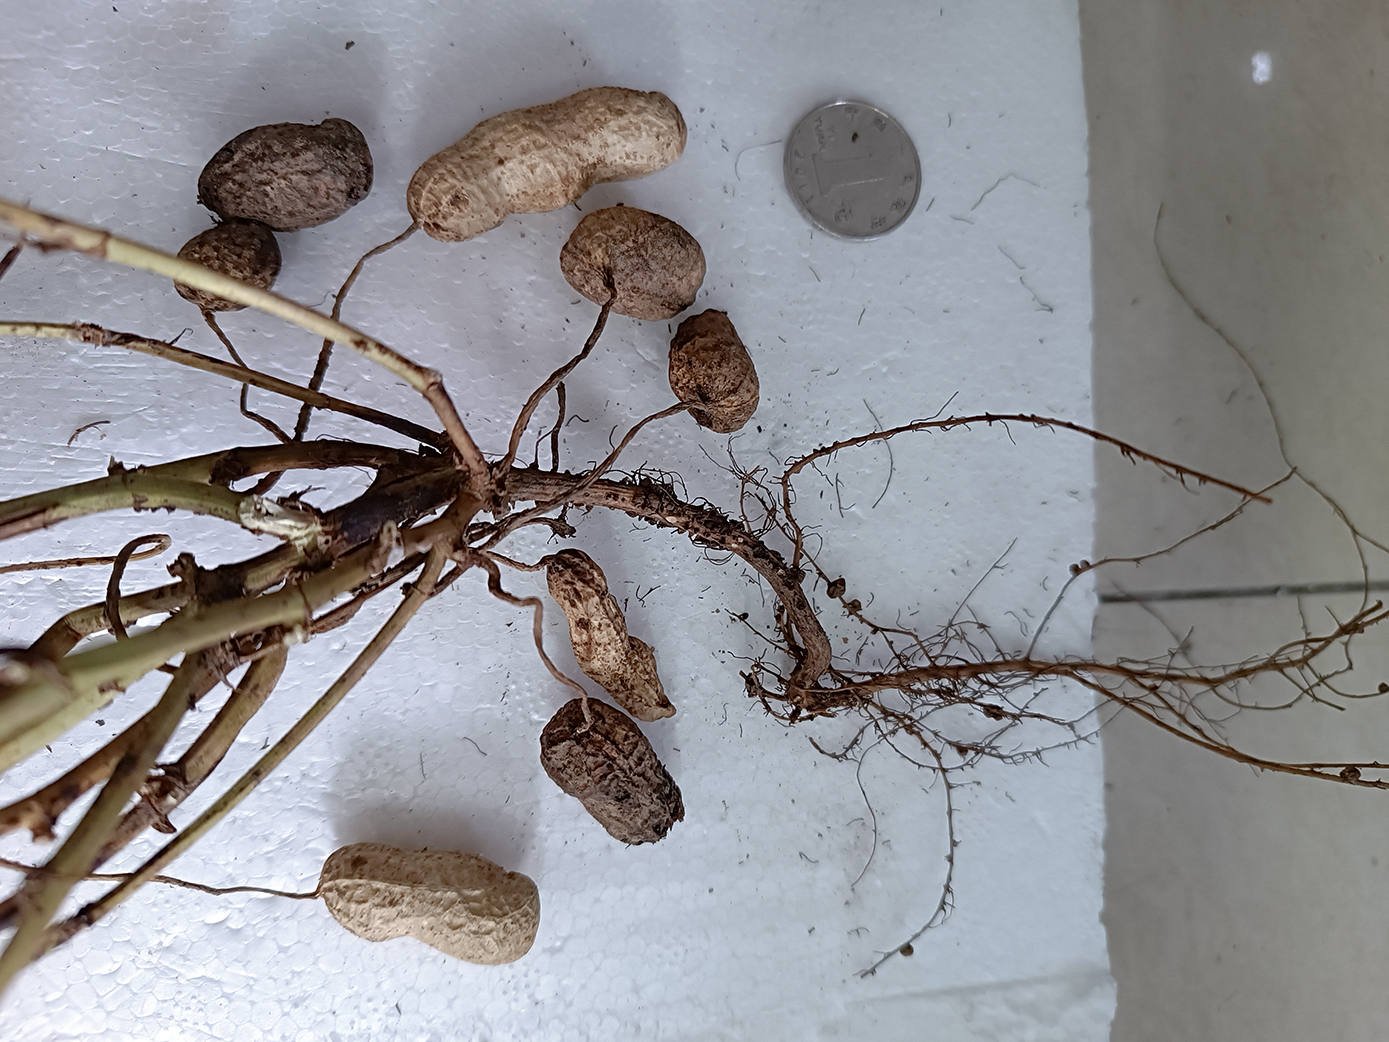h: (403, 86, 686, 244), (322, 844, 541, 969)
l: (544, 551, 676, 719), (539, 698, 685, 840), (198, 118, 373, 230), (562, 208, 705, 316), (665, 312, 760, 430), (171, 219, 283, 308)
